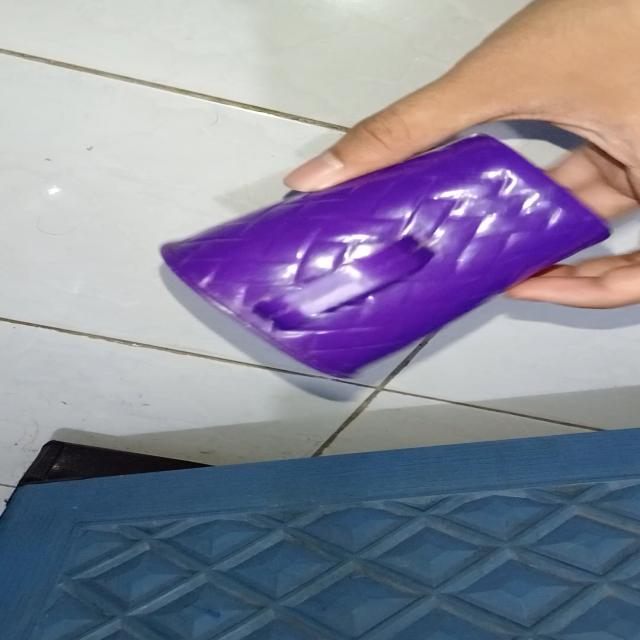gelas bekas: (158, 132, 614, 382)
